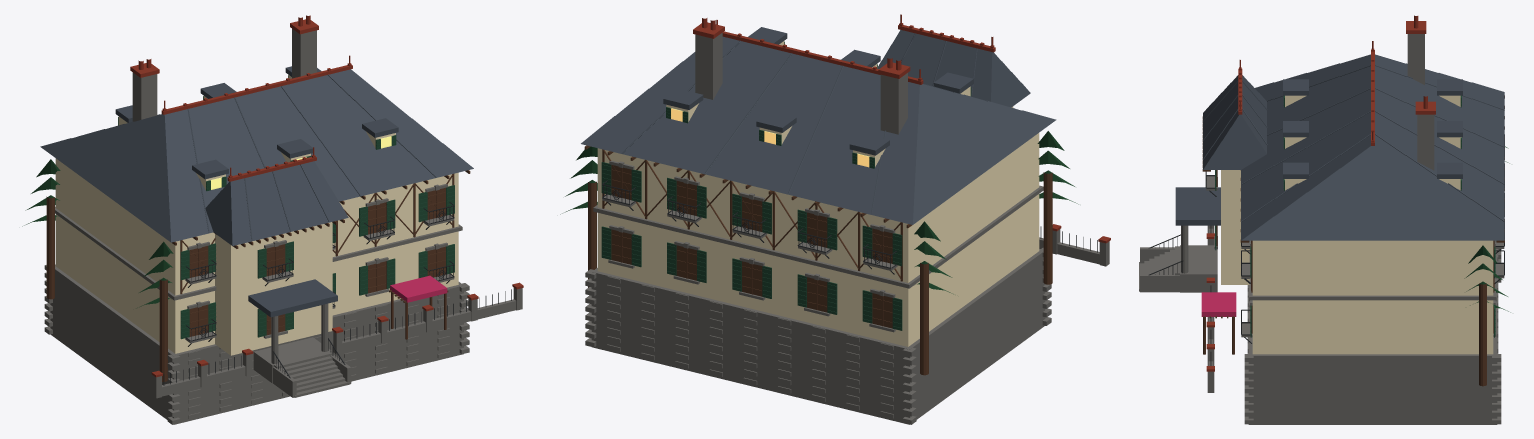
The model's file is fv_thd_10_villa_24_mansard.glb.
3 renders of one model, left to right at view 1: azimuth 30°, elevation 25°; view 2: azimuth 150°, elevation 25°; view 3: azimuth 270°, elevation 25°, orthographic. The views are drawn at different scales.
Parts seen in each view (by area): view 1: marseille_corrugated_roof_tiles, granite_foundation_and_stairs, stucco_facade_and_dormers, colombage_timber_and_eaves, pine_green_louvered_shutters, ridge_cresting_and_chimneys, wrought_iron_balconies_3d, pine_trees_and_garden_hedges, bougainvillea_pergola_clusters; view 2: marseille_corrugated_roof_tiles, granite_foundation_and_stairs, stucco_facade_and_dormers, colombage_timber_and_eaves, pine_green_louvered_shutters, ridge_cresting_and_chimneys, pine_trees_and_garden_hedges, wrought_iron_balconies_3d; view 3: marseille_corrugated_roof_tiles, stucco_facade_and_dormers, granite_foundation_and_stairs, colombage_timber_and_eaves, ridge_cresting_and_chimneys, bougainvillea_pergola_clusters, wrought_iron_balconies_3d, pine_green_louvered_shutters, pine_trees_and_garden_hedges.
Boxes of the visible parts, x1,y1,x2,y2 form: marseille_corrugated_roof_tiles: (40, 66, 473, 317); granite_foundation_and_stairs: (44, 29, 522, 424); stucco_facade_and_dormers: (55, 75, 458, 355); colombage_timber_and_eaves: (46, 170, 470, 381); pine_green_louvered_shutters: (118, 75, 454, 339); ridge_cresting_and_chimneys: (130, 15, 523, 377); wrought_iron_balconies_3d: (163, 202, 511, 385); pine_trees_and_garden_hedges: (22, 159, 173, 308); bougainvillea_pergola_clusters: (390, 275, 447, 302); marseille_corrugated_roof_tiles: (581, 27, 1056, 224); granite_foundation_and_stairs: (585, 32, 1109, 424); stucco_facade_and_dormers: (597, 41, 1039, 346); colombage_timber_and_eaves: (584, 145, 1052, 375); pine_green_louvered_shutters: (601, 41, 971, 330); ridge_cresting_and_chimneys: (693, 14, 1110, 243); pine_trees_and_garden_hedges: (560, 131, 1078, 294); wrought_iron_balconies_3d: (602, 180, 1097, 274); marseille_corrugated_roof_tiles: (1175, 54, 1504, 240); stucco_facade_and_dormers: (1221, 95, 1493, 354); granite_foundation_and_stairs: (1139, 34, 1504, 424); colombage_timber_and_eaves: (1202, 95, 1504, 386); ridge_cresting_and_chimneys: (1206, 15, 1435, 371); bougainvillea_pergola_clusters: (1201, 292, 1236, 316); wrought_iron_balconies_3d: (1148, 134, 1504, 365); pine_green_louvered_shutters: (1215, 95, 1495, 337); pine_trees_and_garden_hedges: (1464, 146, 1510, 312).
Size of the model in its own units: 26.62 by 20.13 by 23.75.
